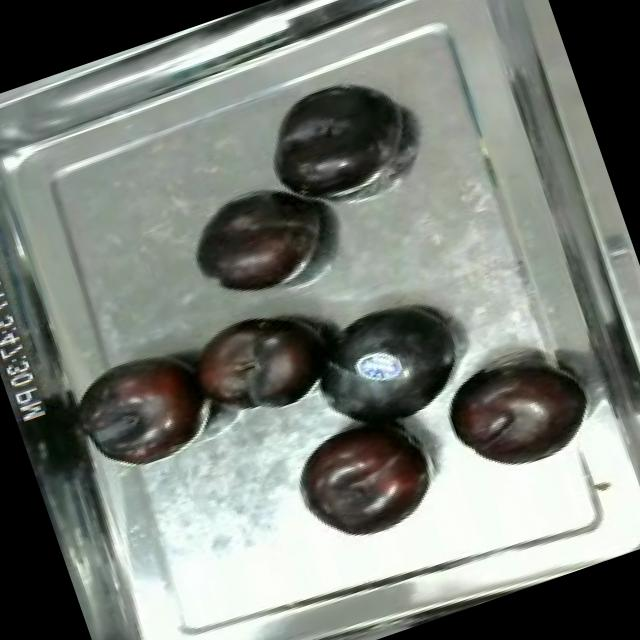Fruit: (293, 280, 482, 450), (279, 400, 452, 556), (250, 62, 425, 215), (430, 332, 602, 486), (62, 332, 230, 485), (176, 168, 344, 314), (174, 290, 342, 433)
